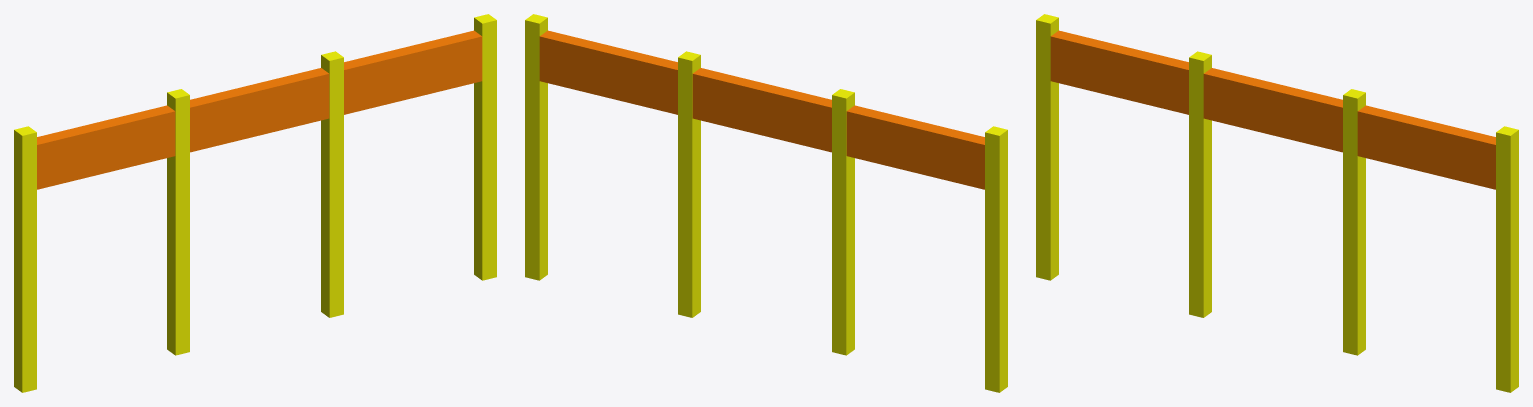
The model's file is pole trap.fbx.
The picture shows the model from 3 angles, left to right: view 1: azimuth 30°, elevation 25°; view 2: azimuth 150°, elevation 25°; view 3: azimuth 330°, elevation 25°; orthographic projection.
Parts seen in each view (by area): view 1: pole, pole trap 2, pole trap 3, pole trap 1; view 2: pole, pole trap 2, pole trap 3, pole trap 1; view 3: pole, pole trap 2, pole trap 1, pole trap 3.
Part boxes in pixels (<box>): pole: <box>14,14,496,392</box>; pole trap 2: <box>190,68,329,152</box>; pole trap 3: <box>37,105,175,189</box>; pole trap 1: <box>344,30,482,114</box>; pole: <box>525,14,1007,392</box>; pole trap 2: <box>692,68,831,152</box>; pole trap 3: <box>846,105,984,189</box>; pole trap 1: <box>539,30,677,114</box>; pole: <box>1036,14,1518,392</box>; pole trap 2: <box>1203,68,1342,152</box>; pole trap 1: <box>1357,105,1495,189</box>; pole trap 3: <box>1050,30,1188,114</box>.
Bounding box in the file's own units: 652 × 337 × 20.
